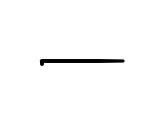minus: (39, 58, 124, 66)
